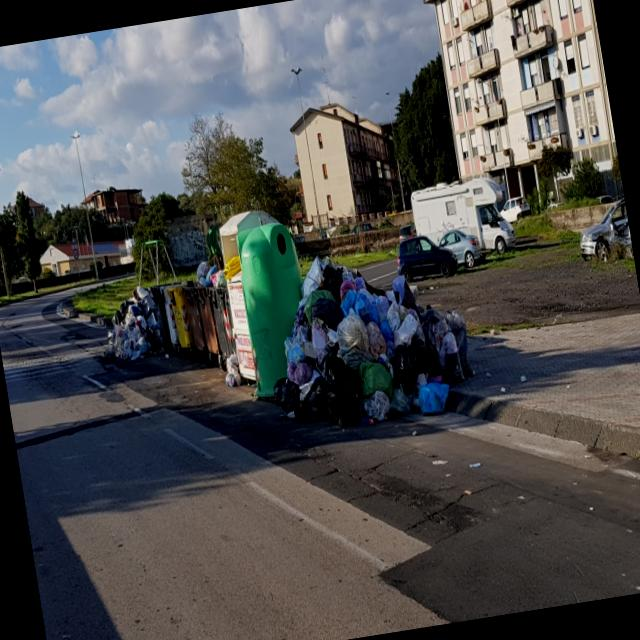garbage: (261, 222, 487, 460), (84, 284, 174, 387)
